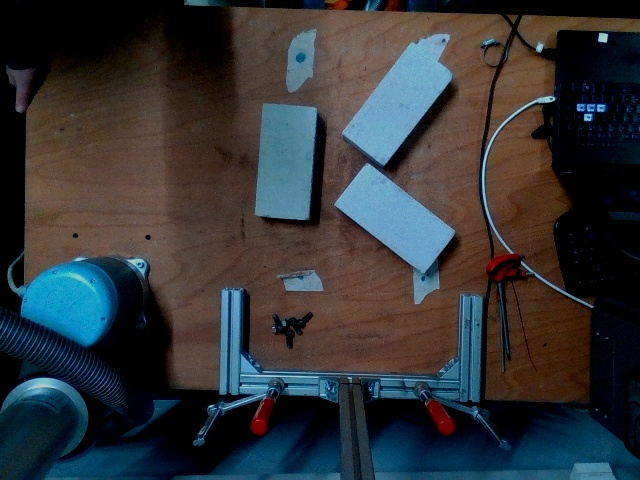brick: (340, 40, 457, 166), (335, 162, 456, 273), (257, 103, 315, 216)
